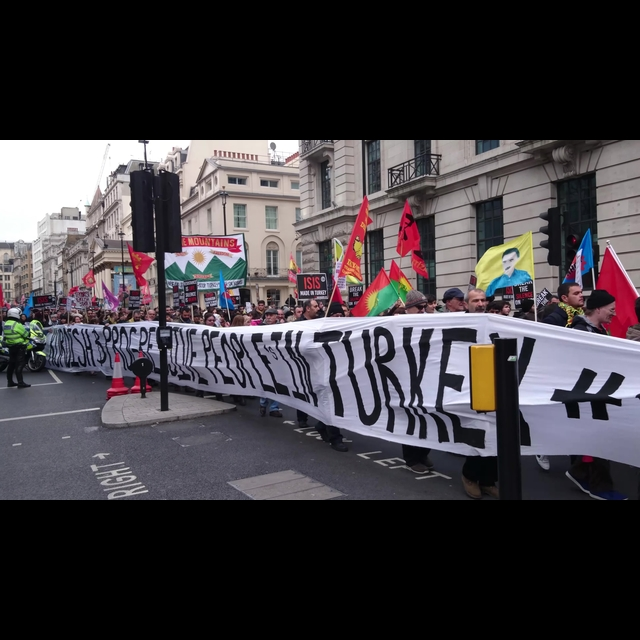APO: (501, 245, 522, 282)
